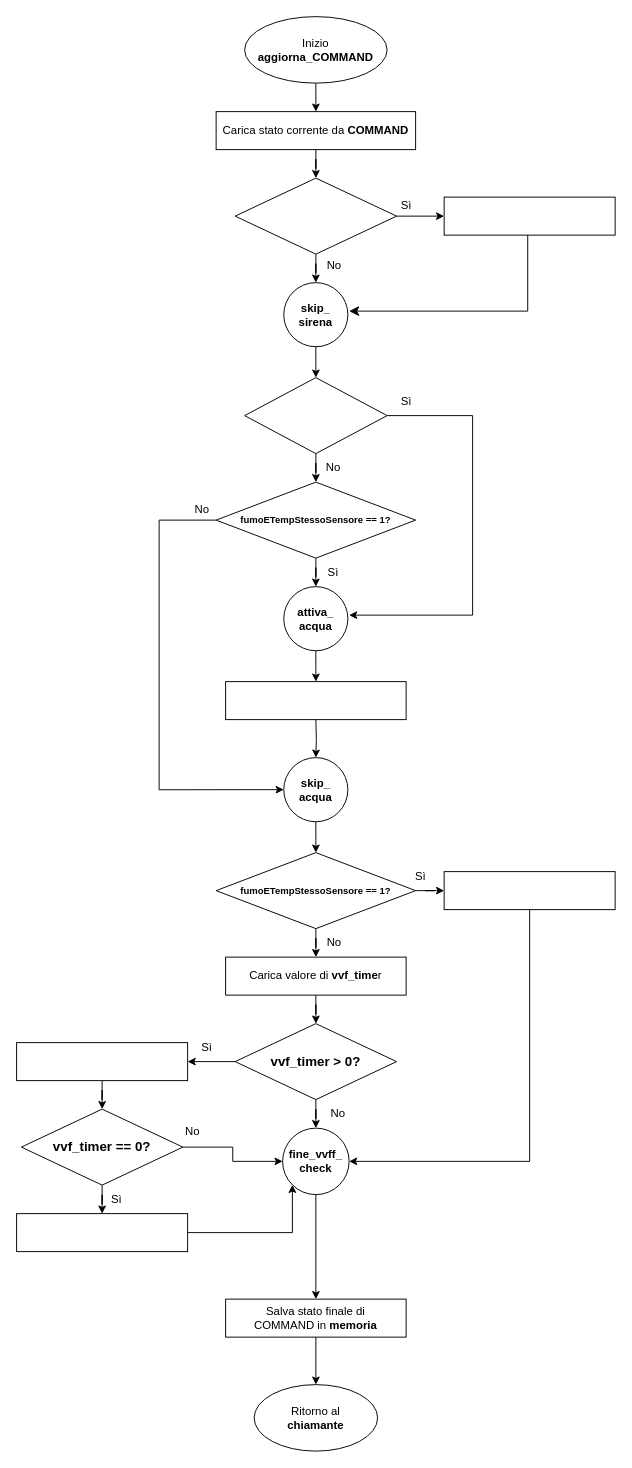
This 632x1468 diagram has some shape labels left out. The box of each missing label's shape, as (x1, y1, x2, y2) in pixels:
Attiva bit acqua in COMMAND: (225, 681, 406, 720)
Attiva bit sirena in COMMAND: (443, 196, 615, 235)
Attiva bit VVFF in COMMAND e imposta vvf_timer = 1: (443, 871, 615, 910)
Azzera bit VVFF in COMMAND, disattivando la chiamata: (16, 1213, 188, 1252)
Decrementa vvf_timer e salva nuovo valore di vvf_timer: (16, 1042, 188, 1081)
fumoPresente == 1?: (234, 177, 397, 254)
temp_contatore >= 5?: (244, 377, 387, 454)
